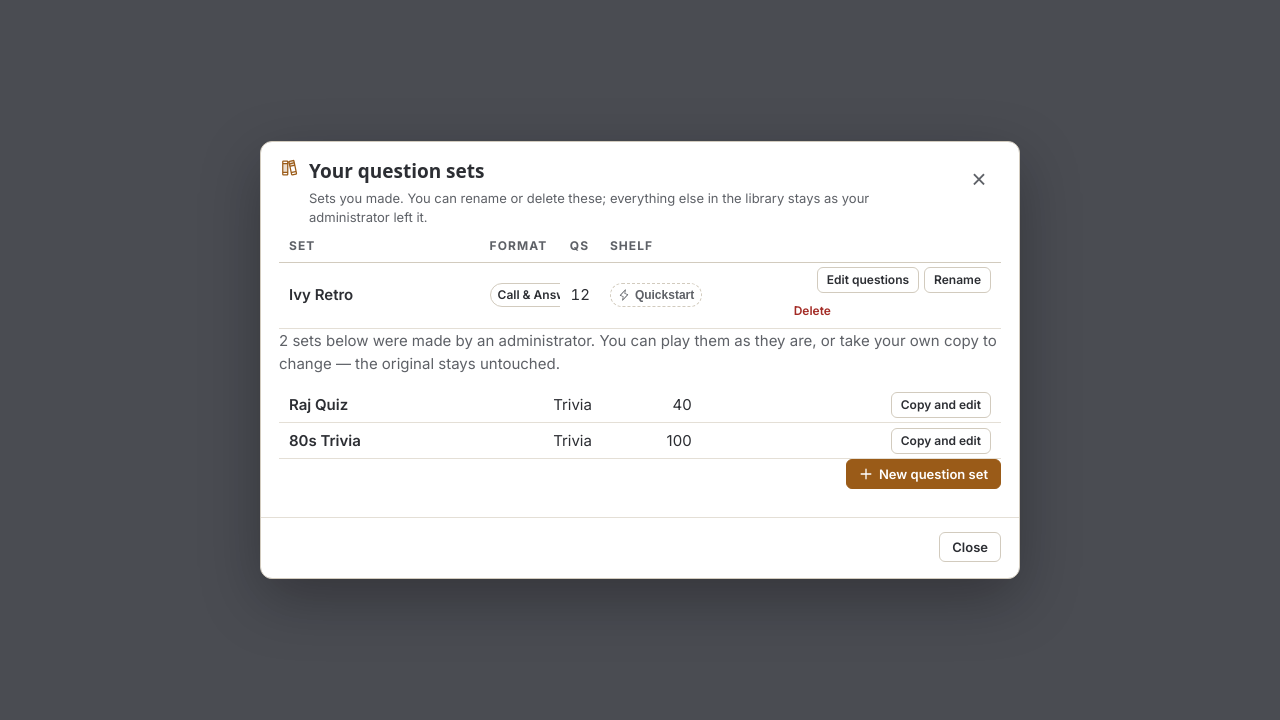
it: rename › a 403 from the API is shown in the API's own words
Step 1. Click the button "Rename" → click(958, 280), box [924, 267, 991, 293]
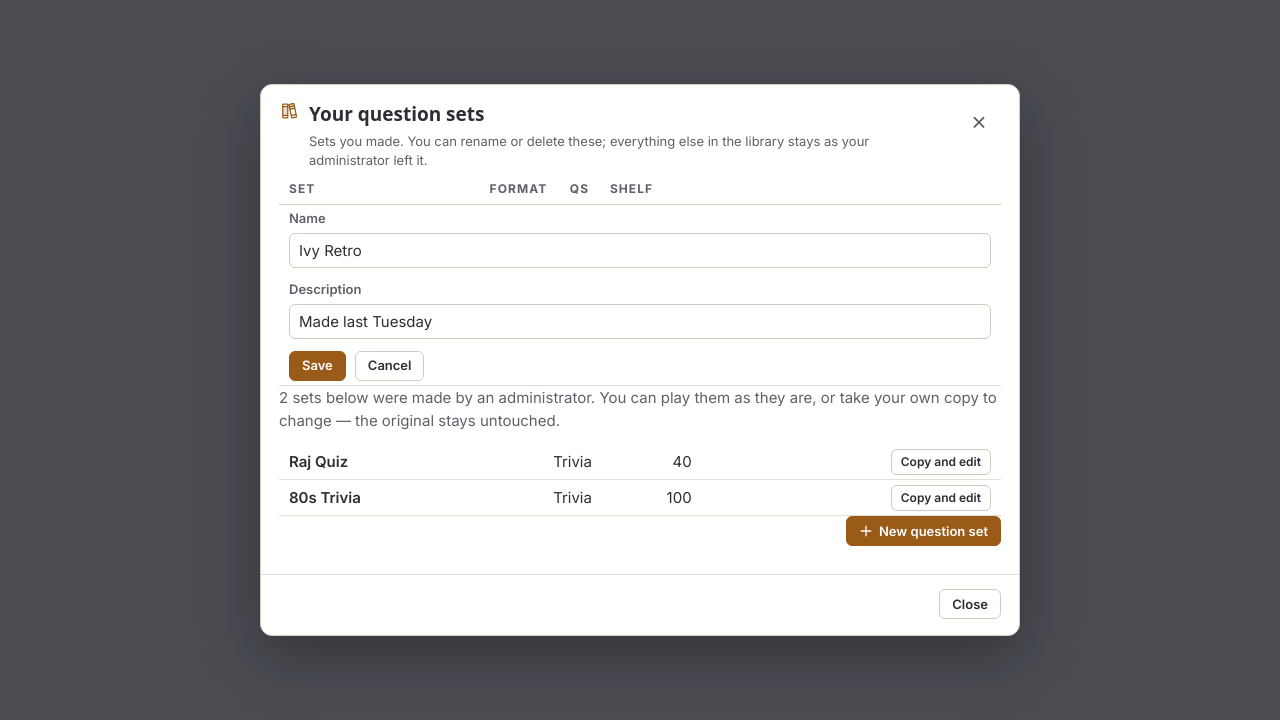
Step 2. Replace the text in the field labelled "Name" with "nope" → (640, 251), box [289, 233, 991, 268]
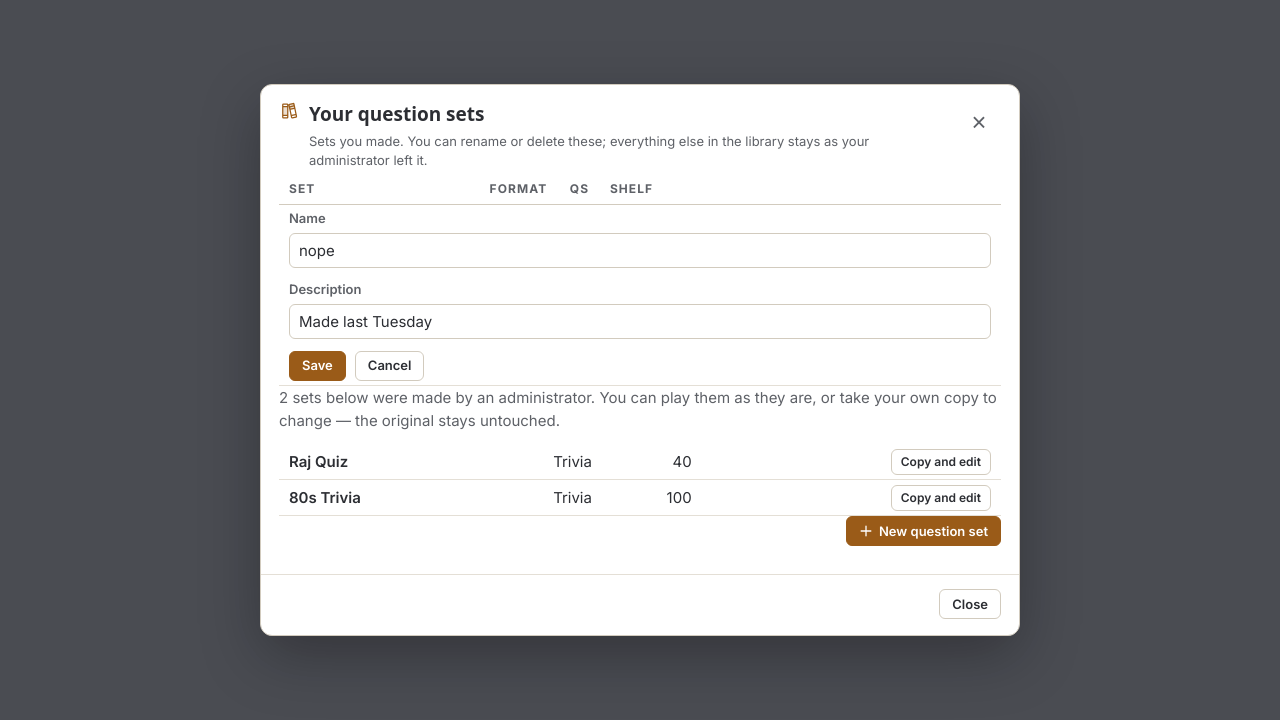
Step 3. Click the button "Save" → click(317, 366), box [289, 351, 346, 381]
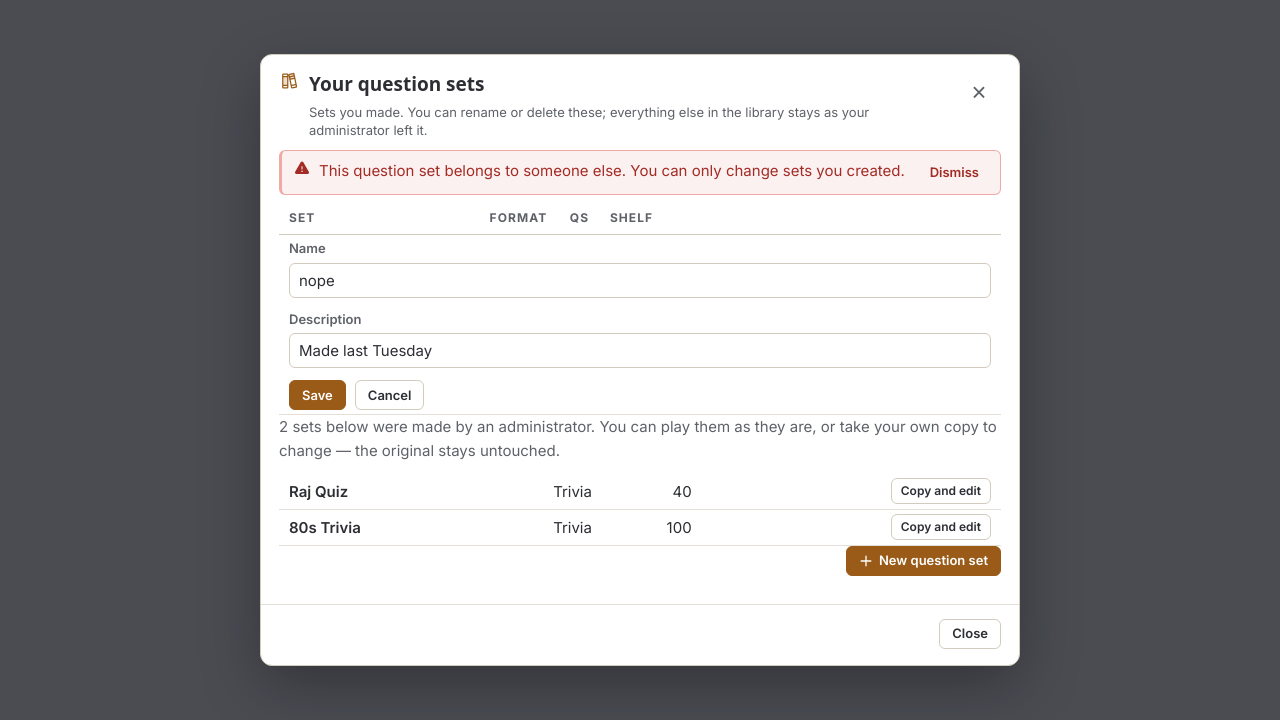
Expected: the message shows "belongs to someone else", [319, 161, 905, 180]
